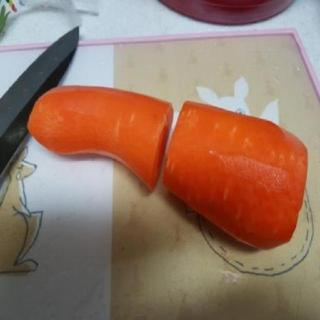carrot: (163, 103, 307, 253), (26, 86, 172, 195)
